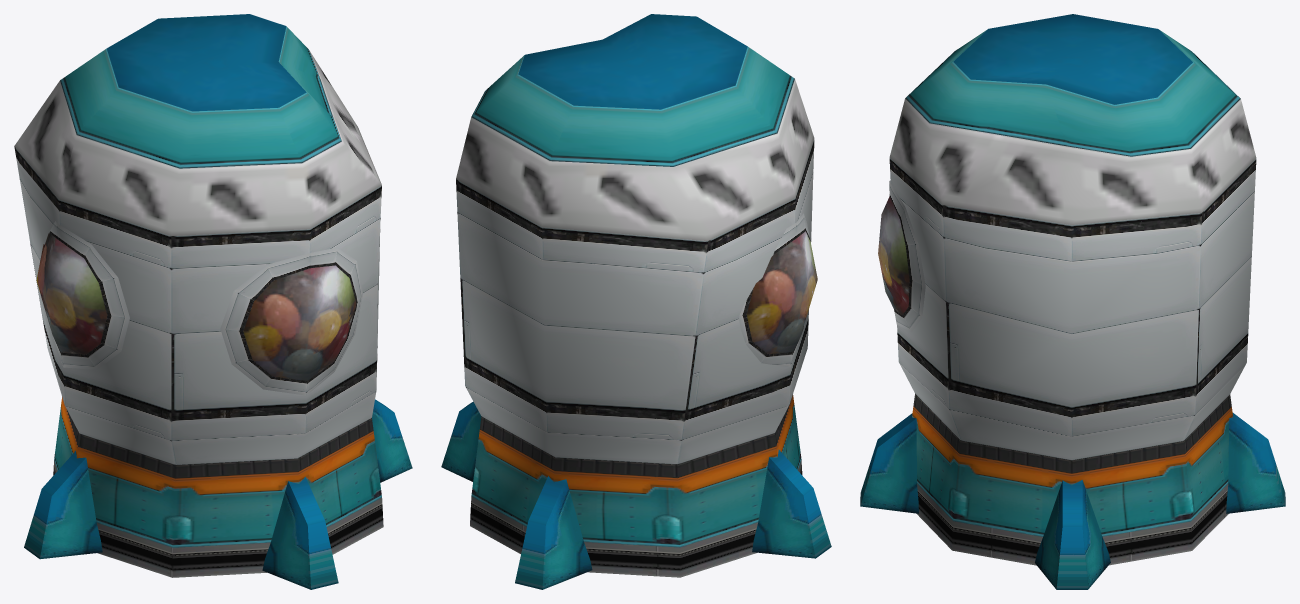
The model's file is stg200_obj_tank_bp1.obj.
3 renders of one model, left to right at view 1: azimuth 30°, elevation 25°; view 2: azimuth 150°, elevation 25°; view 3: azimuth 270°, elevation 25°, orthographic.
Parts seen in each view (by area): view 1: polygon1, polygon0, polygon3, polygon4, polygon2; view 2: polygon0, polygon1, polygon3, polygon2, polygon4; view 3: polygon0, polygon1, polygon3, polygon2, polygon4.
Part boxes in pixels (bbox=[...]): polygon1: bbox=[24, 14, 412, 589]; polygon0: bbox=[14, 146, 381, 464]; polygon3: bbox=[14, 50, 381, 235]; polygon4: bbox=[36, 233, 356, 380]; polygon2: bbox=[53, 460, 383, 577]; polygon0: bbox=[456, 139, 814, 464]; polygon1: bbox=[441, 14, 831, 589]; polygon3: bbox=[456, 79, 814, 240]; polygon2: bbox=[470, 460, 802, 577]; polygon4: bbox=[746, 231, 817, 353]; polygon0: bbox=[889, 158, 1256, 460]; polygon1: bbox=[860, 14, 1285, 589]; polygon3: bbox=[889, 98, 1256, 224]; polygon2: bbox=[917, 484, 1228, 565]; polygon4: bbox=[878, 196, 909, 314].
Bounding box in the file's own units: 15.54 × 17.7 × 15.54.
Materials: 5 (5 with a texture image).
